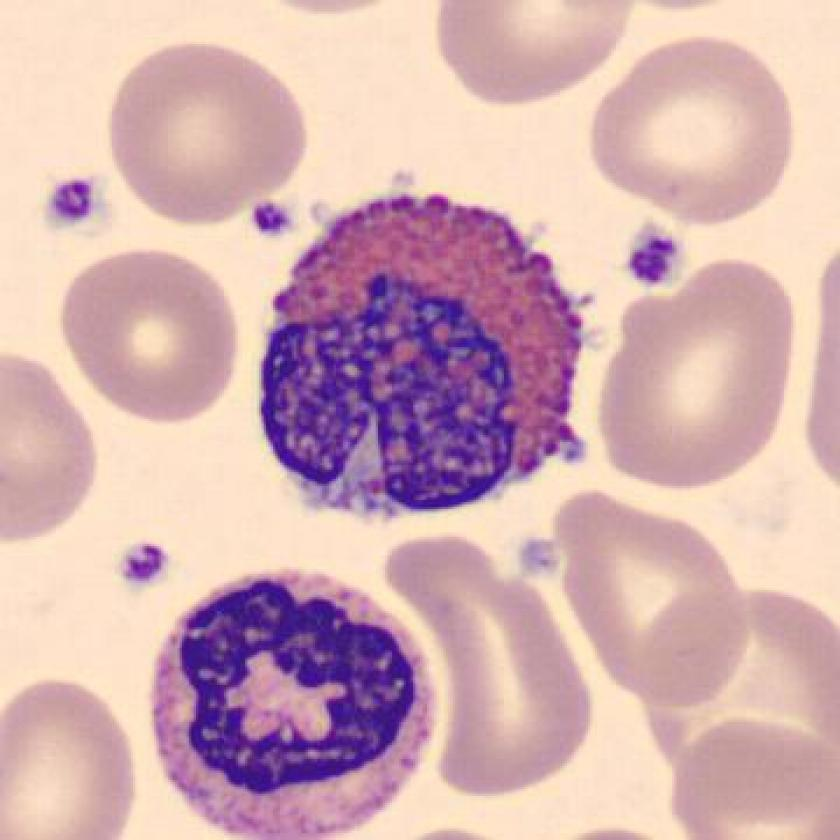eosinophil: (249, 179, 599, 536)
